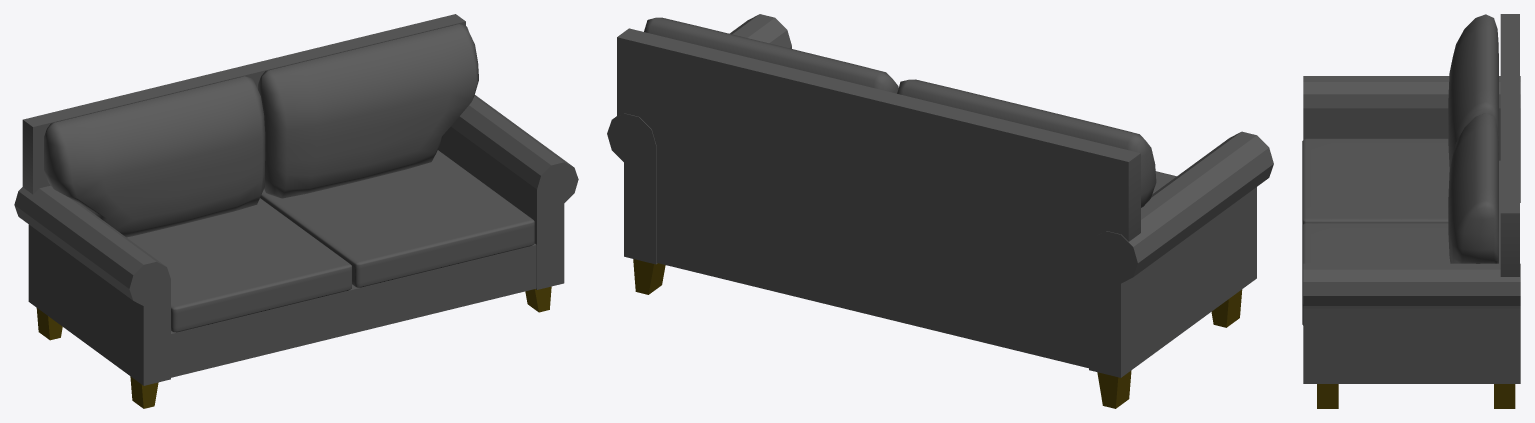
File: Couch.fbx
3 views of the same model, side by side, from view 1: azimuth 30°, elevation 25°; view 2: azimuth 150°, elevation 25°; view 3: azimuth 270°, elevation 25° (orthographic). The views are drawn at different scales.
Parts seen in each view (by area): view 1: Cushion2, Cushion1, Frame, Seat1, Armrest1, Seat2, Armrest2, Leg1, Leg2, Leg3; view 2: Frame, Armrest1, Armrest2, Cushion1, Cushion2, Leg3, Leg4, Leg1; view 3: Armrest2, Seat2, Armrest1, Cushion2, Seat1, Frame, Cushion1, Leg2, Leg4.
Boxes of the visible parts, left/top/right/bottom form: Cushion2: left=258, top=24, right=478, bottom=198; Cushion1: left=44, top=76, right=265, bottom=237; Frame: left=22, top=14, right=536, bottom=377; Seat1: left=260, top=150, right=534, bottom=287; Armrest1: left=14, top=185, right=170, bottom=385; Seat2: left=127, top=198, right=351, bottom=332; Armrest2: left=438, top=95, right=578, bottom=289; Leg1: left=130, top=376, right=158, bottom=408; Leg2: left=525, top=286, right=551, bottom=312; Leg3: left=36, top=308, right=62, bottom=340; Frame: left=617, top=28, right=1140, bottom=368; Armrest1: left=1089, top=131, right=1273, bottom=377; Armrest2: left=607, top=14, right=791, bottom=264; Cushion1: left=897, top=79, right=1156, bottom=207; Cushion2: left=644, top=17, right=898, bottom=93; Leg3: left=1097, top=370, right=1131, bottom=408; Leg4: left=633, top=259, right=665, bottom=294; Leg1: left=1211, top=289, right=1242, bottom=327; Armrest2: left=1303, top=263, right=1520, bottom=383; Seat2: left=1302, top=138, right=1449, bottom=225; Armrest1: left=1303, top=76, right=1520, bottom=202; Cushion2: left=1448, top=113, right=1498, bottom=263; Seat1: left=1302, top=223, right=1450, bottom=325; Frame: left=1499, top=14, right=1519, bottom=276; Cushion1: left=1448, top=14, right=1498, bottom=169; Leg2: left=1317, top=384, right=1338, bottom=408; Leg4: left=1494, top=384, right=1515, bottom=408.
Bounding box in the file's own units: 4.45 × 2.09 × 1.98.
